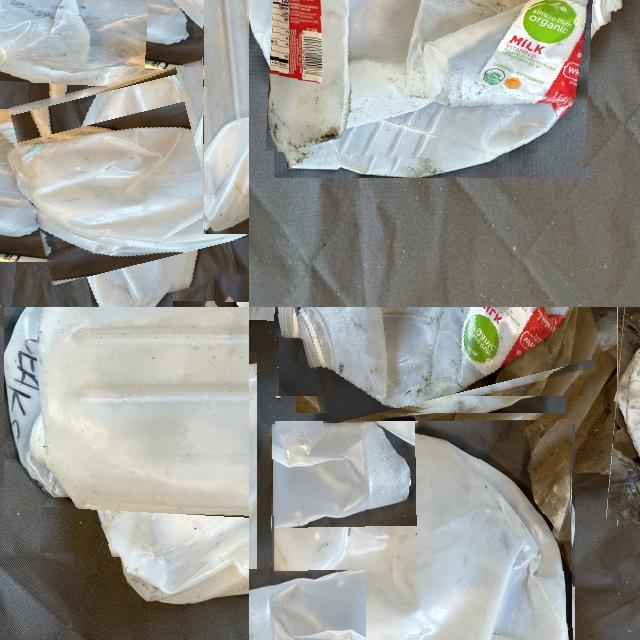milk-jug: (271, 420, 574, 640), (250, 0, 616, 163), (20, 68, 249, 307), (45, 307, 249, 568), (0, 0, 247, 145), (272, 307, 590, 419), (203, 0, 249, 234), (249, 573, 371, 640)
